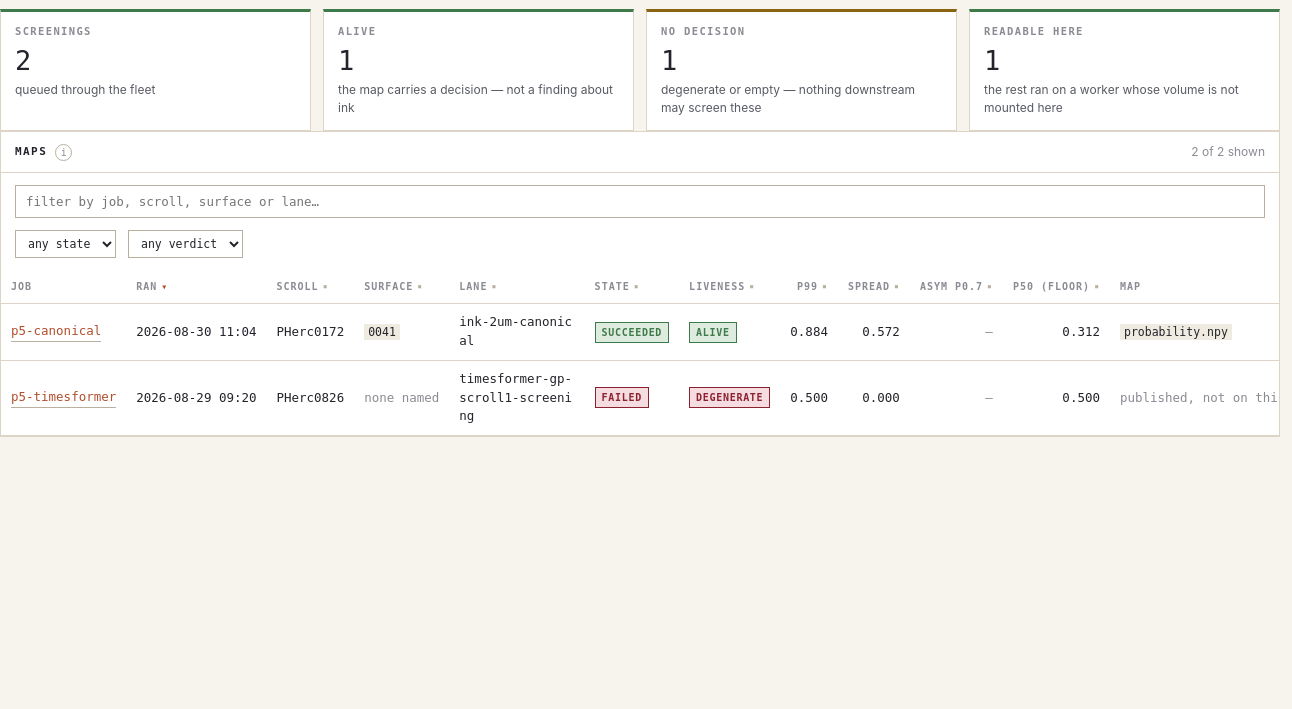
Scenario: inspecting one run › shows the receipt's own numbers, the digest and the lineage
The image size is (1292, 709).
Click the button "p5-canonical" at (56, 332), box [11, 322, 101, 342]
(page scrolled)
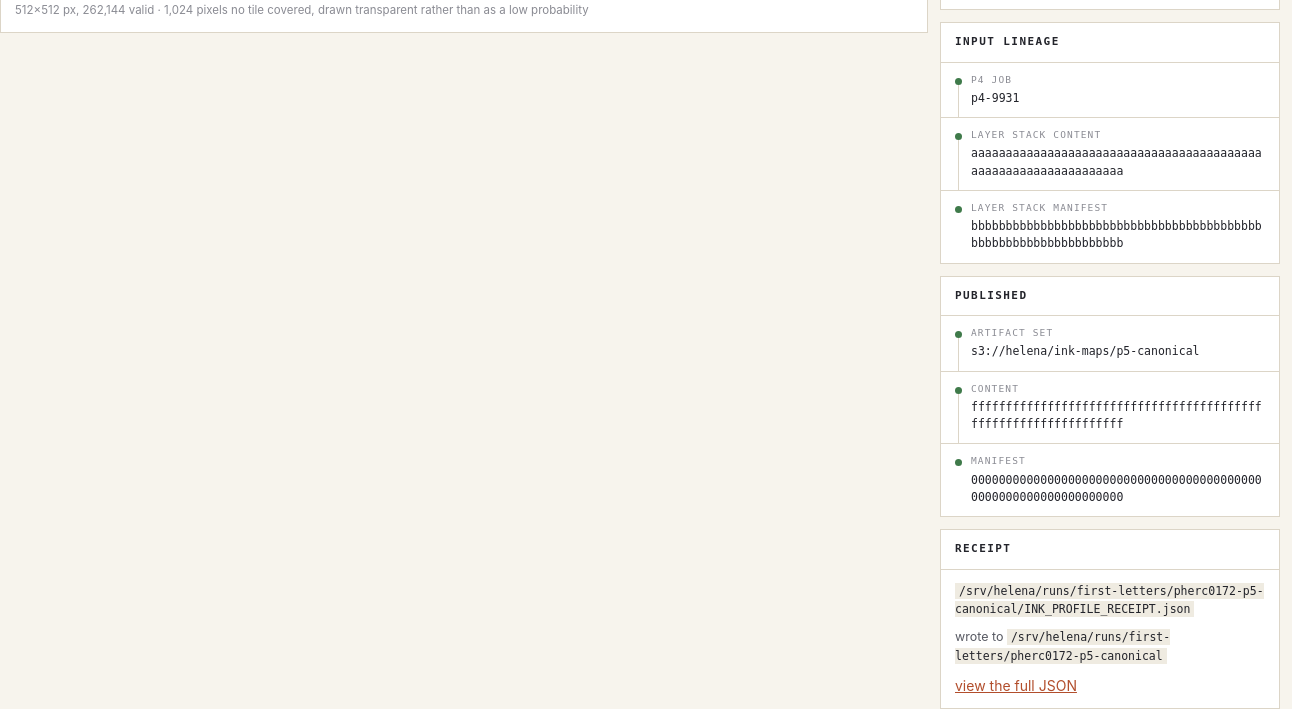
Expected: the text "p4-9931" is shown, [971, 91, 1020, 105]
Expected: the text "INK_PROFILE_RECEIPT.json" is shown, [955, 584, 1264, 616]
